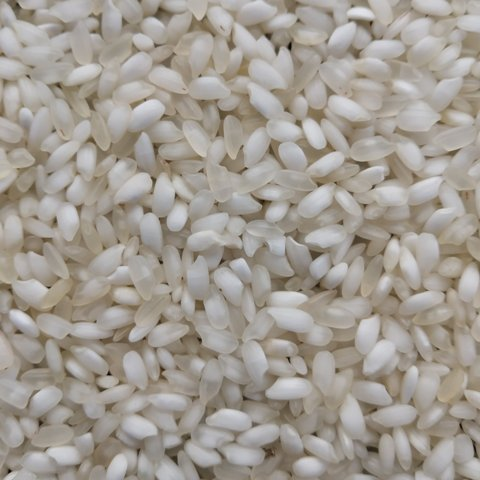idli rice_4: (51, 30, 414, 480)
